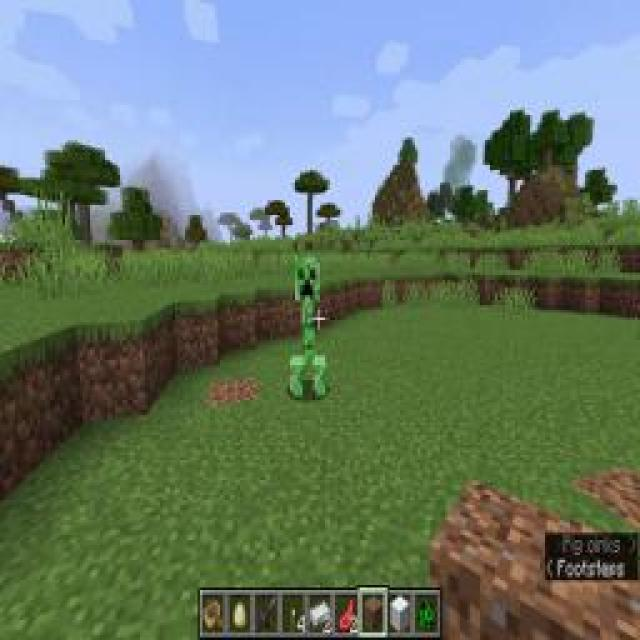Creeper: (288, 251, 328, 404)
